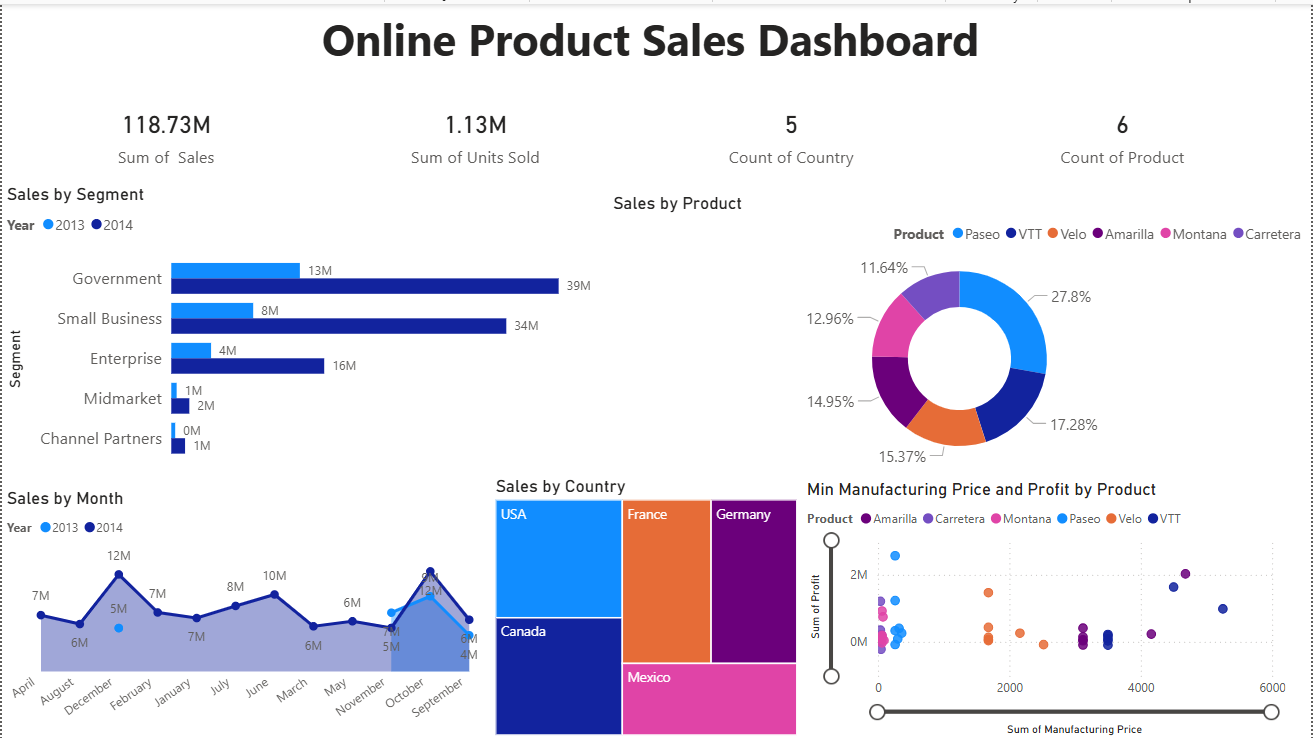

The page's visual inventory and layout, read from the dashboard file:
{"tool":"powerbi","page":{"name":"Page 1","canvas":[1280,720],"ordinal":0},"visuals":[{"type":"donutChart","title":"Sales by Product","fields":{"Category":["Sheet1.Product"],"Y":["Sum(Sheet1. Sales)"]},"box":[592.8,185.2,687.5,275.8],"z":0},{"type":"clusteredBarChart","title":"Sales by Segment","fields":{"Category":["Sheet1.Segment"],"Series":["Sheet1.Year"],"Y":["Sum(Sheet1. Sales)"]},"box":[0,175.6,592.8,285.4],"z":1},{"type":"areaChart","title":"Sales by Month","fields":{"Category":["Sheet1.Month Name"],"Series":["Sheet1.Year"],"Y":["Sum(Sheet1. Sales)"]},"box":[0,473.4,477.5,247],"z":2},{"type":"treemap","title":"Sales by Country","fields":{"Values":["Sum(Sheet1. Sales)"],"Group":["Sheet1.Country"]},"box":[477.5,461.1,304.6,259.3],"z":3},{"type":"scatterChart","title":"Min Manufacturing Price and Profit by Product","fields":{"Category":["Sheet1.Sale Price"],"Series":["Sheet1.Product"],"X":["Sum(Sheet1.Manufacturing Price)"],"Y":["Sum(Sheet1.Profit)"]},"box":[782.2,465.2,477.5,255.2],"z":4},{"type":"card","title":"Sales","fields":{"Values":["Sum(Sheet1. Sales)"]},"box":[26.1,81,270.3,94.7],"z":5},{"type":"card","title":"Sales","fields":{"Values":["Sum(Sheet1.Units Sold)"]},"box":[363.6,81,200.3,94.7],"z":6},{"type":"card","title":"Sales","fields":{"Values":["Count(Sheet1.Country)"]},"box":[682,81,179.8,94.7],"z":7},{"type":"card","title":"Sales","fields":{"Values":["Count(Sheet1.Product)"]},"box":[956.4,81,279.9,94.7],"z":8},{"type":"textbox","box":[0,0,1280.3,81],"z":9}]}

Visuals, with their boxes in screenshot pixels (x1, y1, x2, y2), scaled from the page's 1280x720 canvas onto the 1313x738 screenshot:
"Sales by Product" donutChart: bbox=(608, 190, 1312, 473)
"Sales by Segment" clusteredBarChart: bbox=(0, 180, 608, 473)
"Sales by Month" areaChart: bbox=(0, 485, 490, 737)
"Sales by Country" treemap: bbox=(490, 473, 802, 737)
"Min Manufacturing Price and Profit by Product" scatterChart: bbox=(802, 477, 1292, 737)
"Sales" card: bbox=(27, 83, 304, 180)
"Sales" card: bbox=(373, 83, 578, 180)
"Sales" card: bbox=(700, 83, 884, 180)
"Sales" card: bbox=(981, 83, 1268, 180)
textbox: bbox=(0, 0, 1312, 83)
